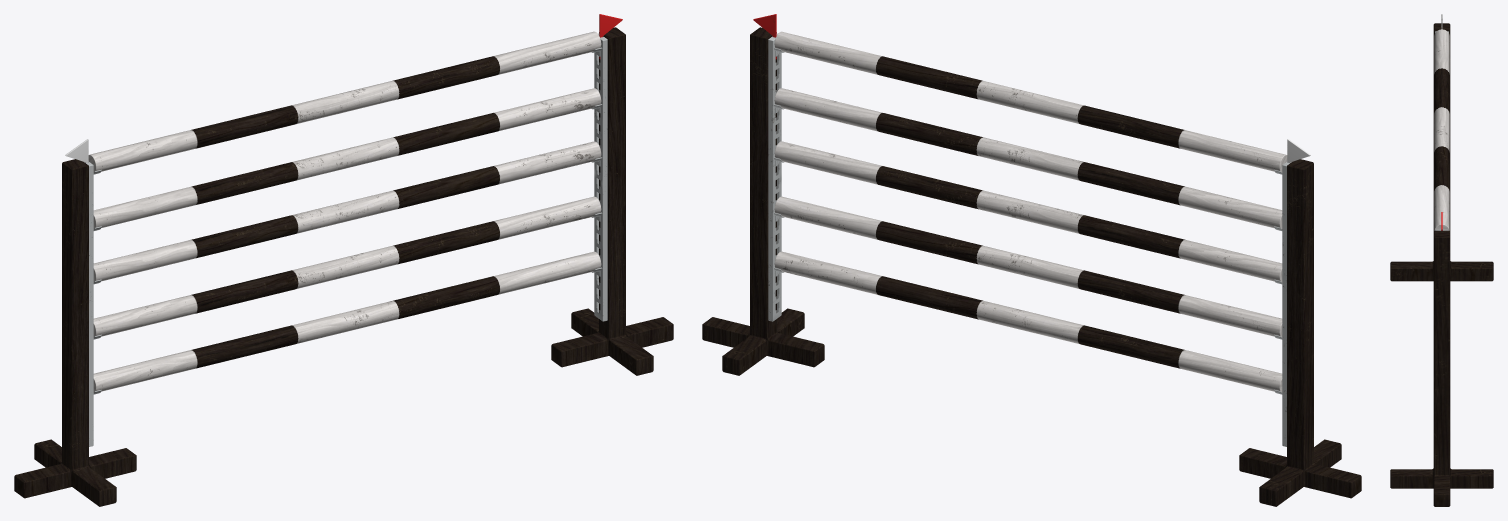
File: 01_Barrier2.glb
3 renders of one model, left to right at view 1: azimuth 30°, elevation 25°; view 2: azimuth 150°, elevation 25°; view 3: azimuth 270°, elevation 25°, orthographic. The views are drawn at different scales.
Parts seen in each view (by area): view 1: Barrier2; view 2: Barrier2; view 3: Barrier2.
Part boxes in pixels (<box>): Barrier2: <box>14,14,673,506</box>; Barrier2: <box>702,14,1361,506</box>; Barrier2: <box>1390,14,1493,506</box>.
Bounding box in the file's own units: 3.86 × 1.92 × 0.673.
1 material, 1 textured.
